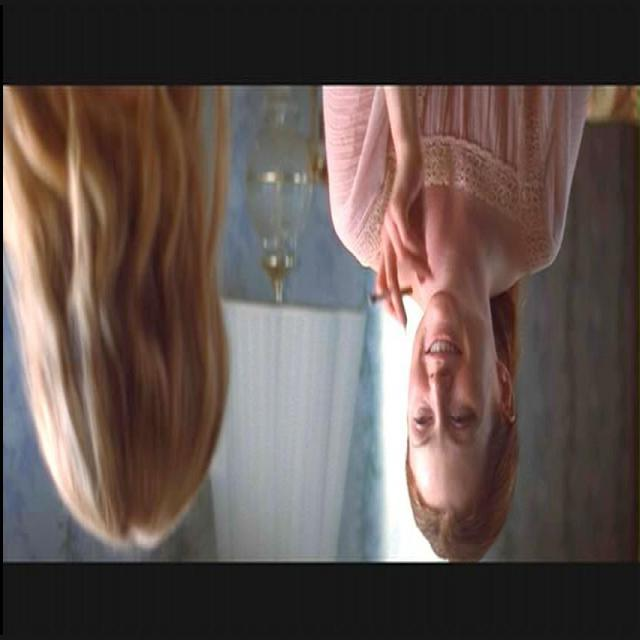cigarette: (363, 274, 423, 318)
